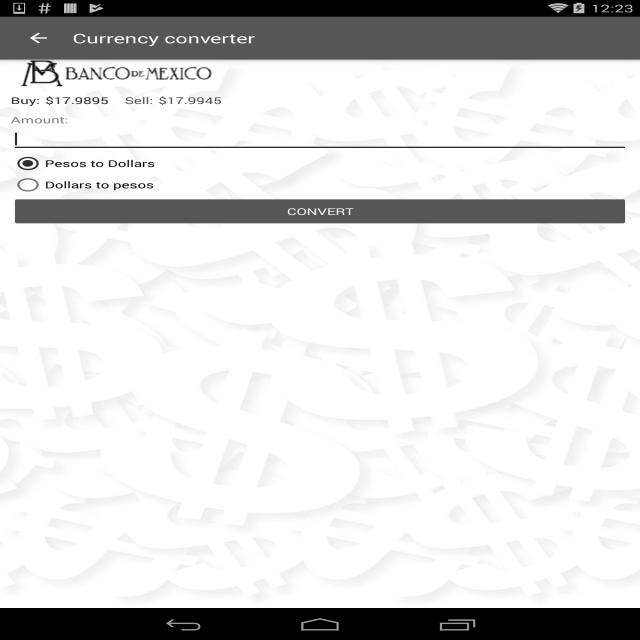Button: (11, 195, 629, 228)
EditText: (11, 126, 629, 153)
ImageButton: (9, 17, 68, 59)
ImageView: (11, 59, 224, 88)
RadioButton: (11, 153, 155, 174), (11, 174, 154, 195)
TextView: (72, 29, 255, 47), (45, 94, 109, 107), (158, 94, 222, 107), (11, 113, 68, 126), (11, 94, 40, 107), (125, 94, 153, 107)
